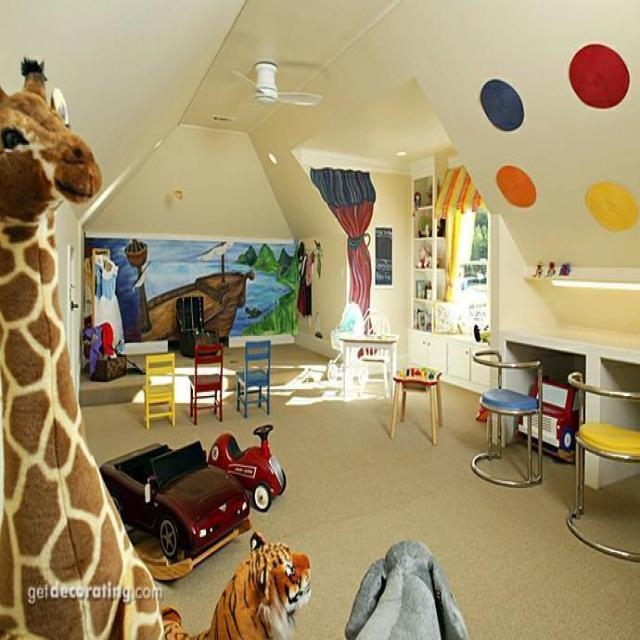curtains: (309, 166, 376, 350), (434, 163, 482, 301)
sofa: (98, 439, 250, 562)
table: (338, 333, 398, 400)
